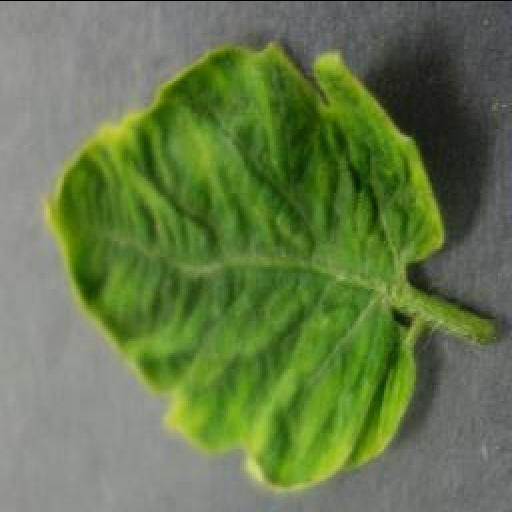disease_tomato: (35, 38, 441, 488)
